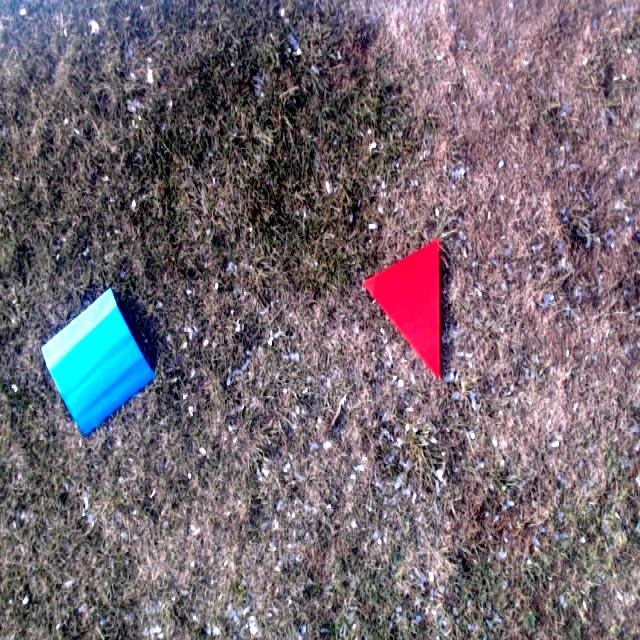blue_square: (41, 283, 154, 437)
red_triangle: (360, 233, 440, 384)
